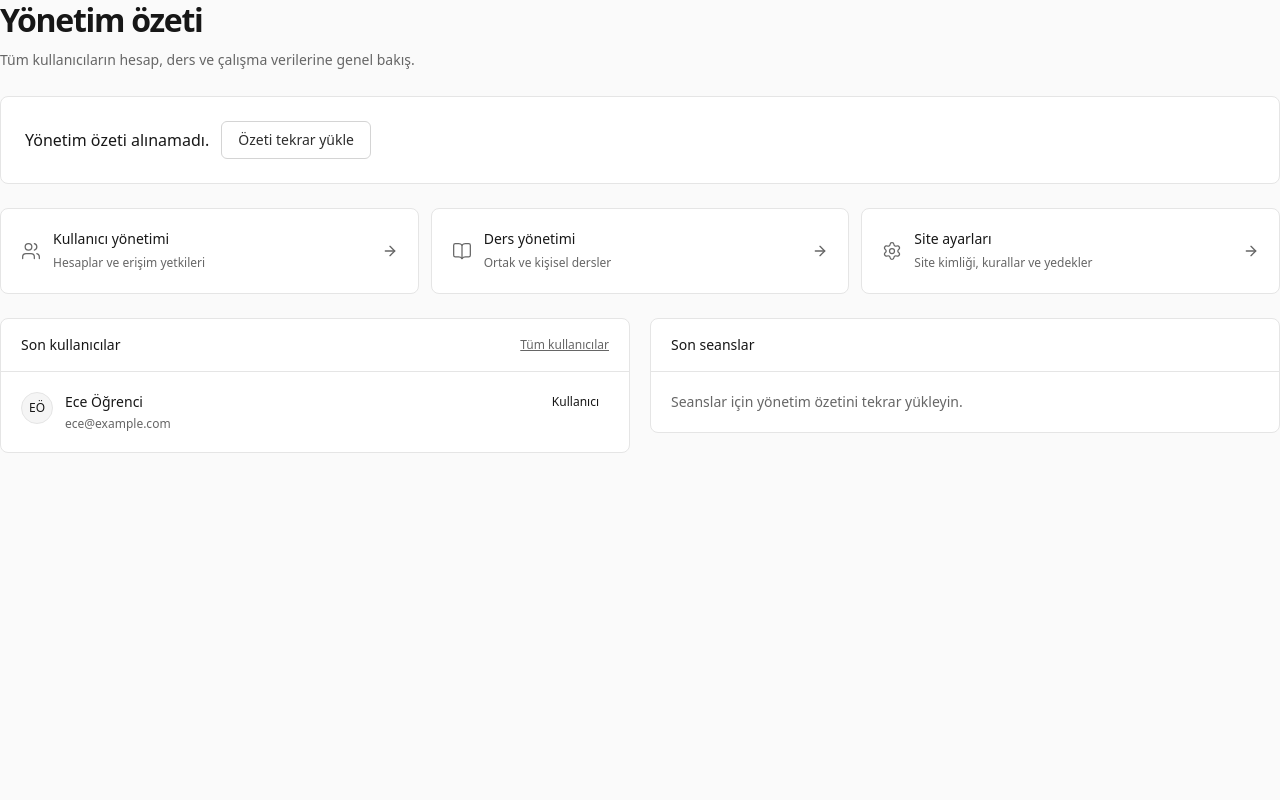
recovers overview errors without hiding a separately loaded user list
Expected: the text "Yönetim özeti alınamadı." is shown, [25,128,209,152]
Expected: the text "ece@example.com" is shown, [65,415,171,432]
What coordinates should you click on to do the following:
click the button "Özeti tekrar yükle"
I would click on:
 (296, 140)
Its box is [221,121,371,159].
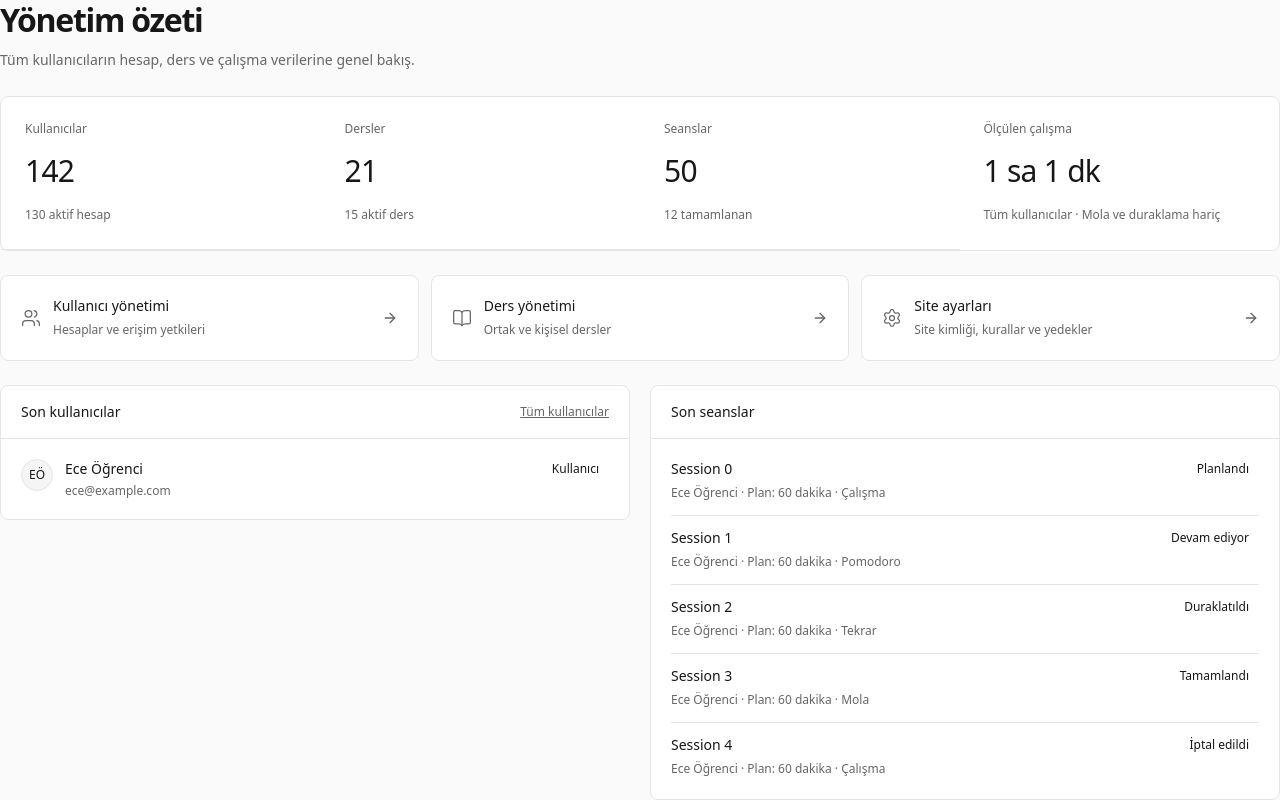
Expected: the text "142" is shown, [25,150,74,191]
